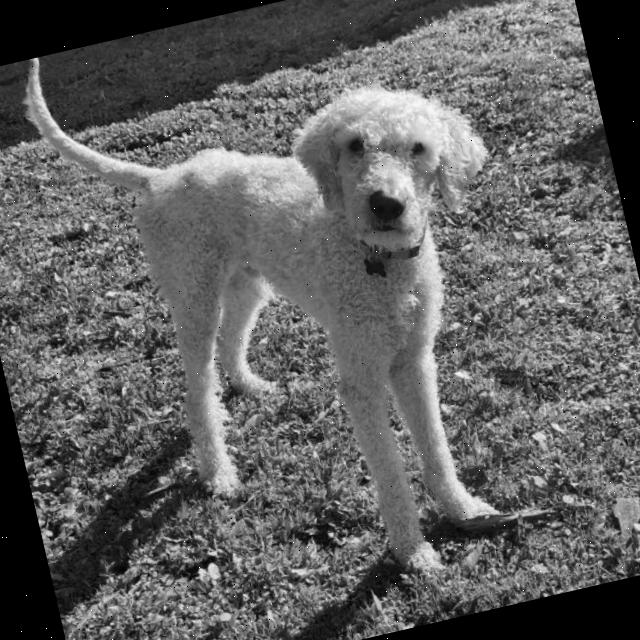Poodle_dog: (273, 55, 512, 282)
